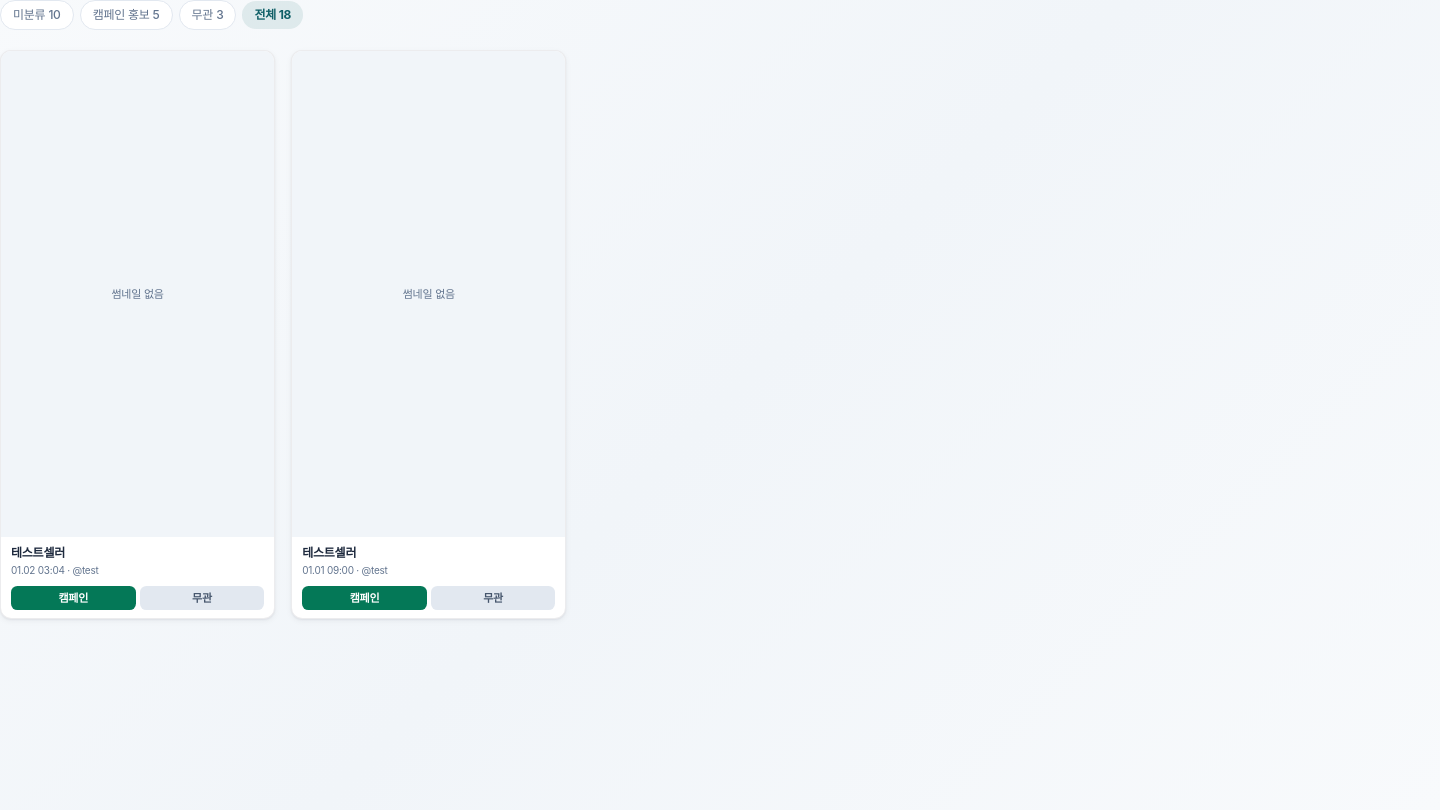
Test: StoryInboxGrid — 누르는 즉시 반영 › 전체 탭에서는 카드가 남고 버튼이 즉시 되돌리기로 바뀐다
What coordinates should you click on to do the following:
click the button "무관" below "01.02 03:04"
I would click on:
 (202, 598)
Its box is [140,586,264,610].
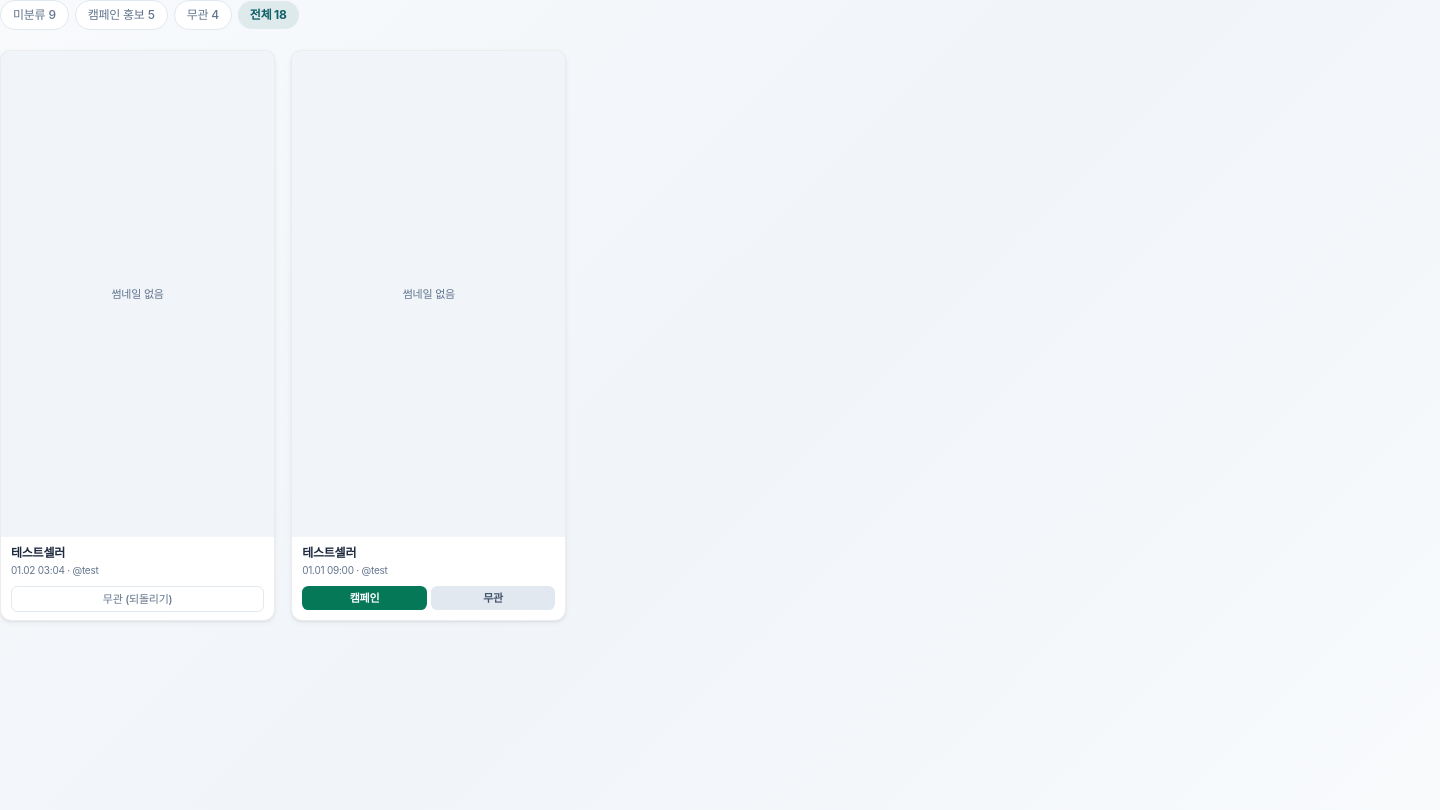
Expected: the button "무관 (되돌리기)" is shown, [11,586,264,612]
